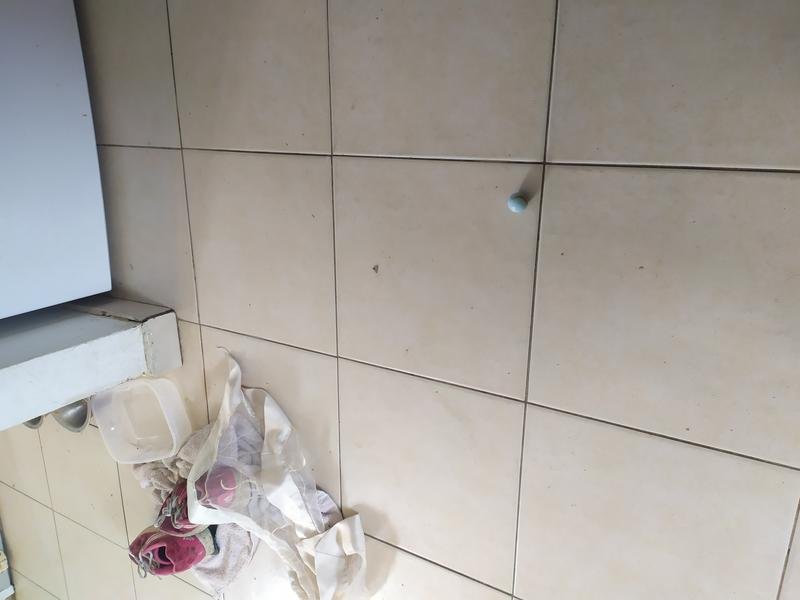Warning: (506, 190, 530, 215)
